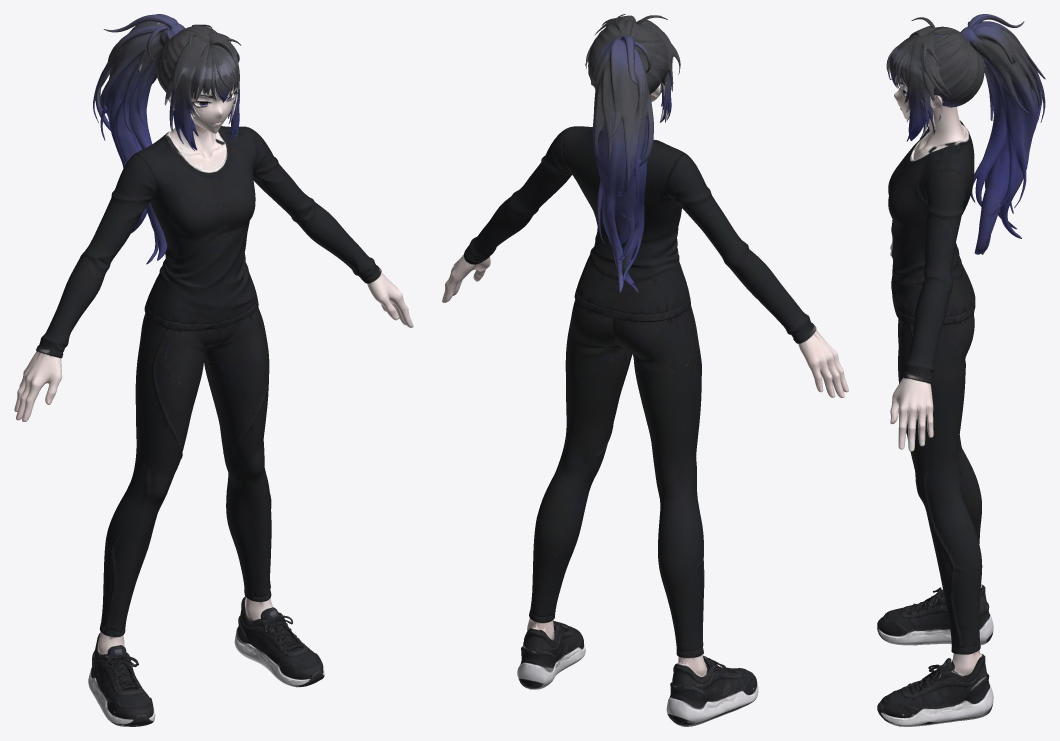
The model's file is yurenmodel.glb.
The picture shows the model from 3 angles, left to right: view 1: azimuth 30°, elevation 25°; view 2: azimuth 150°, elevation 25°; view 3: azimuth 270°, elevation 25°; orthographic projection. The views are drawn at different scales.
Size of the model in its own units: 1.18 by 1.9 by 0.4444.
1 material, 1 textured.
